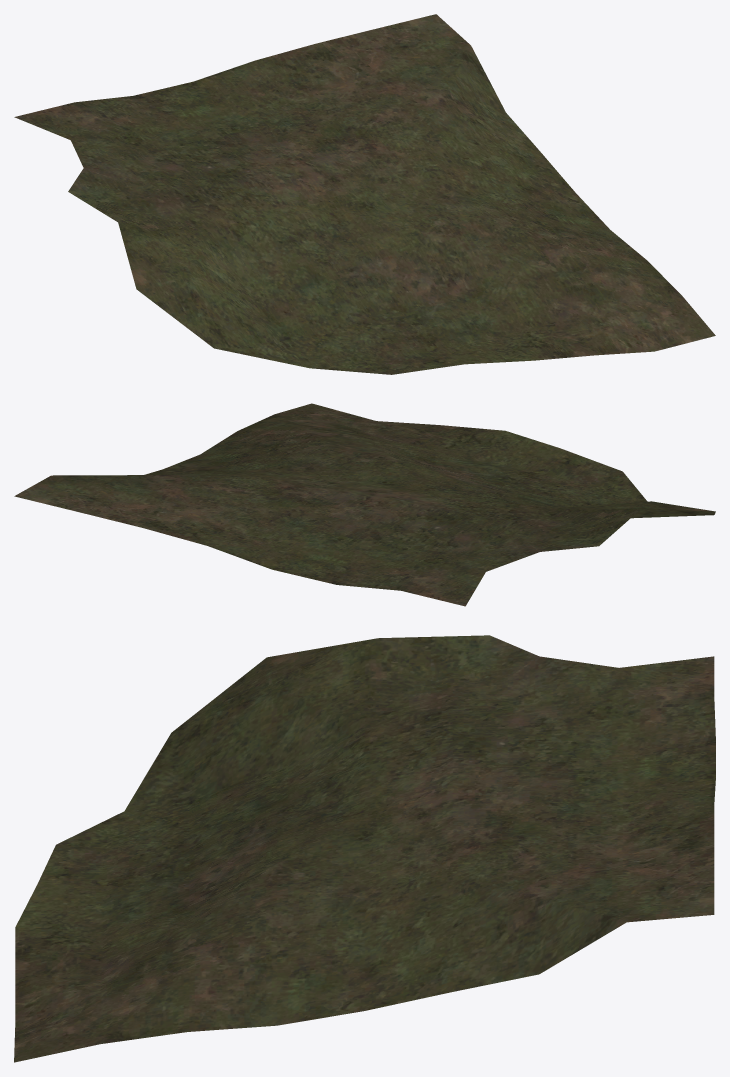
The model's file is blend_weeds15.fbx.
3 views of the same model, one above another, from view 1: azimuth 30°, elevation 25°; view 2: azimuth 150°, elevation 25°; view 3: azimuth 270°, elevation 25° (orthographic). The views are drawn at different scales.
Visible parts, largest first — view 1: New_terrain/brushblend_shadow; view 2: New_terrain/brushblend_shadow; view 3: New_terrain/brushblend_shadow.
Part boxes in pixels (x1,y1,x2,y2): New_terrain/brushblend_shadow: [14, 14, 715, 374]; New_terrain/brushblend_shadow: [14, 403, 715, 606]; New_terrain/brushblend_shadow: [14, 635, 715, 1062].
Size of the model in its own units: 19.86 by 4.71 by 20.09.
